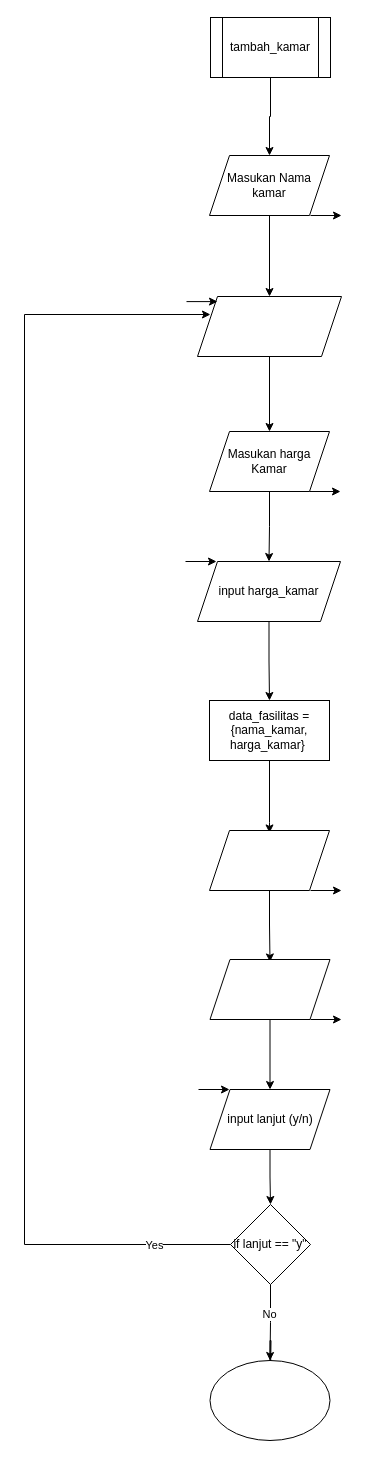
Image size: 367x1458. Some labels were removed from this diagram. The shapes that lost their labels are listed below. From the top down, each one's centre as x and y in pixels, then its label:
At [269,326]: "input nama_kamar".
At [269,860]: "Kamar berhasil ditambahkan".
At [269,989]: "Tambah kamar lain (y/n)".
At [269,1400]: "return".
